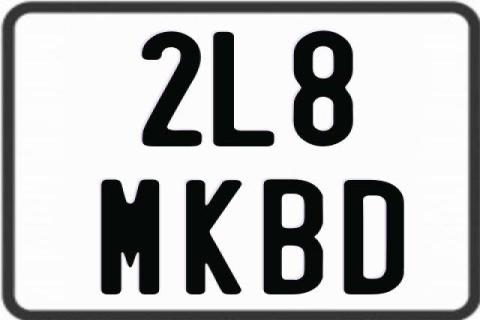0: (291, 28, 353, 146), (142, 29, 203, 147)
B: (261, 177, 320, 292)
D: (342, 180, 407, 296)
K: (183, 180, 244, 294)
L: (213, 30, 275, 148)
M: (98, 178, 157, 294)
